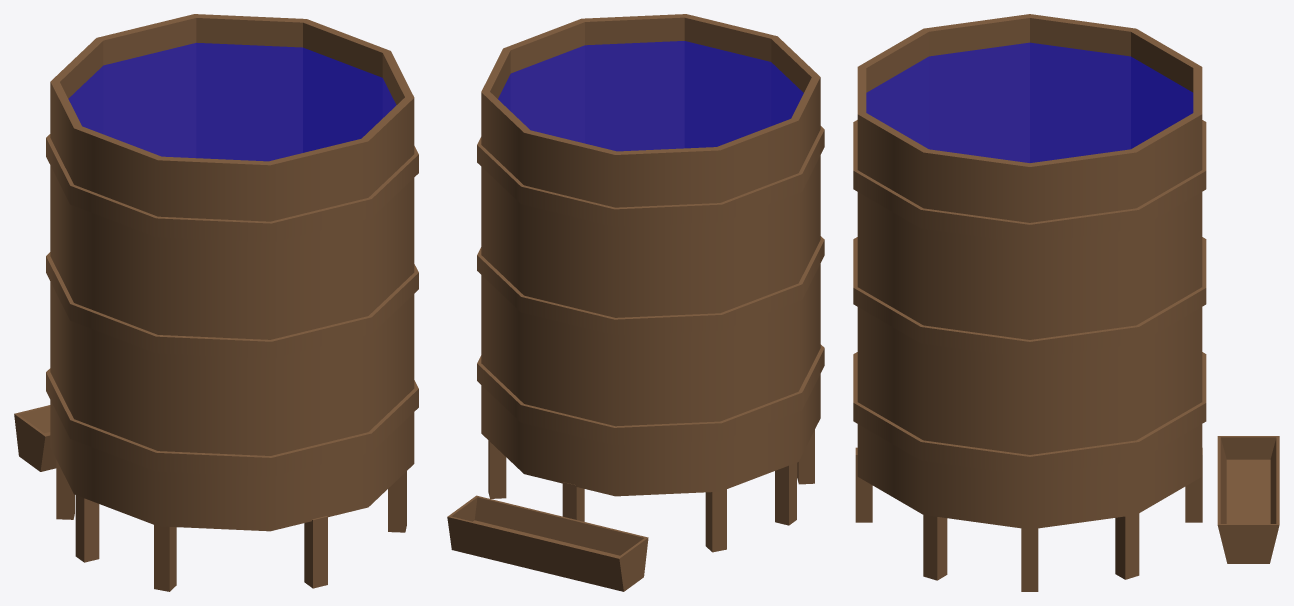
File: tower_mesh.fbx
3 renders of one model, left to right at view 1: azimuth 30°, elevation 25°; view 2: azimuth 150°, elevation 25°; view 3: azimuth 270°, elevation 25°, orthographic. The views are drawn at different scales.
Visible parts, largest first — view 1: pCylinder3, pCylinder2; view 2: pCylinder3, pCylinder2; view 3: pCylinder3, pCylinder2.
Part boxes in pixels (x1,y1,x2,y2): pCylinder3: (14, 14, 418, 591); pCylinder2: (68, 43, 396, 161); pCylinder3: (447, 14, 824, 591); pCylinder2: (498, 41, 803, 151); pCylinder3: (853, 14, 1279, 591); pCylinder2: (866, 42, 1193, 162).
Bounding box in the file's own units: 10.76 × 13.71 × 12.35.
